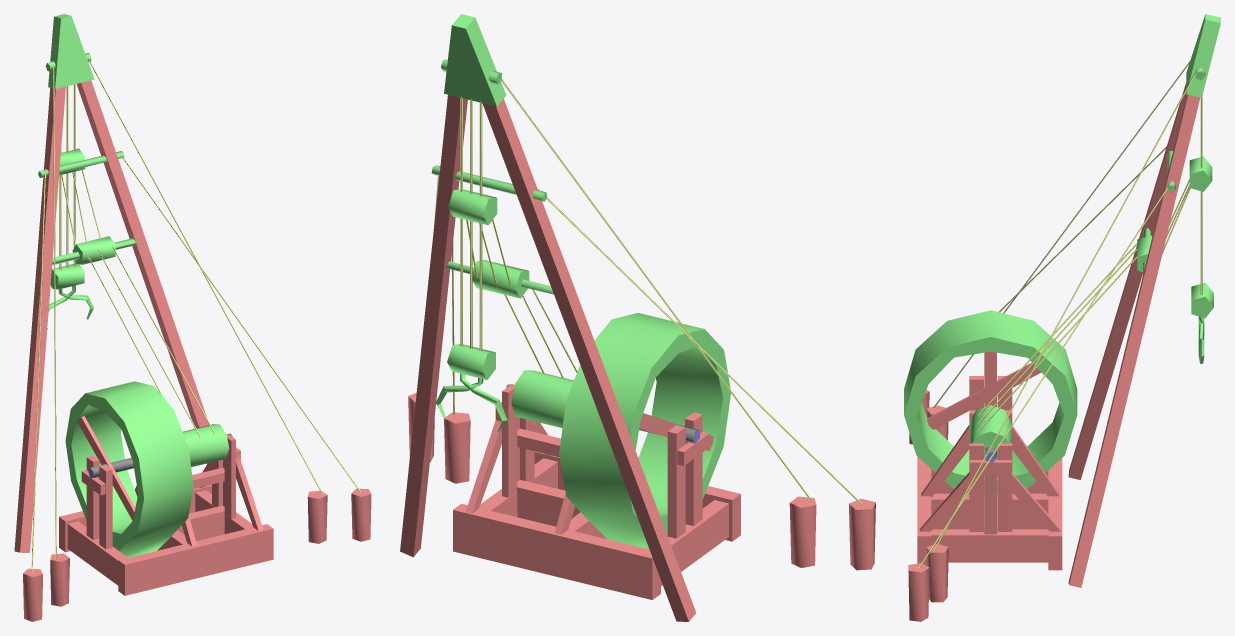
Rendered from Ruins_Renewal_s__Rebuild_pulley.gltf.
3 views of the same model, side by side, from view 1: azimuth 30°, elevation 25°; view 2: azimuth 150°, elevation 25°; view 3: azimuth 270°, elevation 25° (orthographic). The views are drawn at different scales.
Parts seen in each view (by area): view 1: Rebuild_pulley; view 2: Rebuild_pulley; view 3: Rebuild_pulley.
Part boxes in pixels (x1,y1,x2,y2): Rebuild_pulley: [14, 14, 371, 621]; Rebuild_pulley: [400, 14, 875, 621]; Rebuild_pulley: [904, 14, 1220, 621].
Size of the model in its own units: 3.15 by 4.09 by 2.27.
